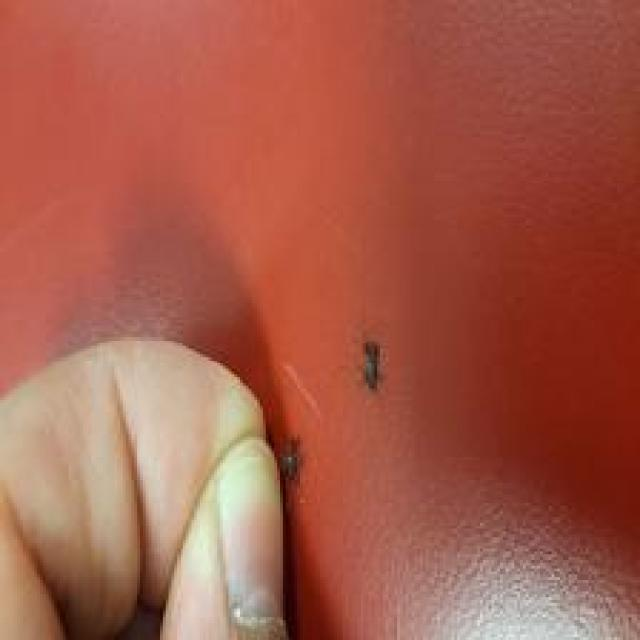Aedes albopictus: (359, 337, 384, 392)
